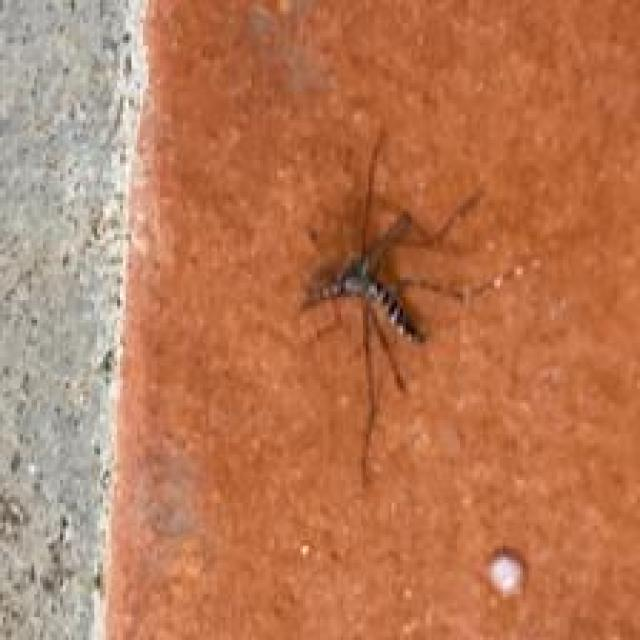Aedes albopictus: (294, 128, 526, 488)
